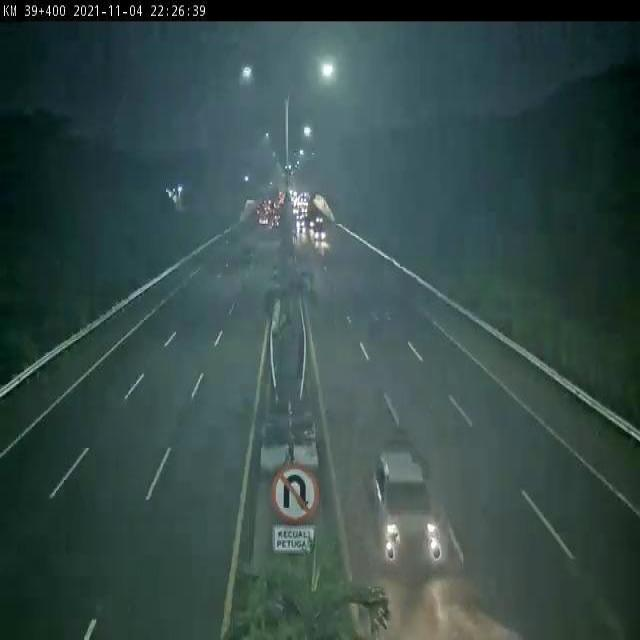ARABA: (360, 454, 449, 594)
